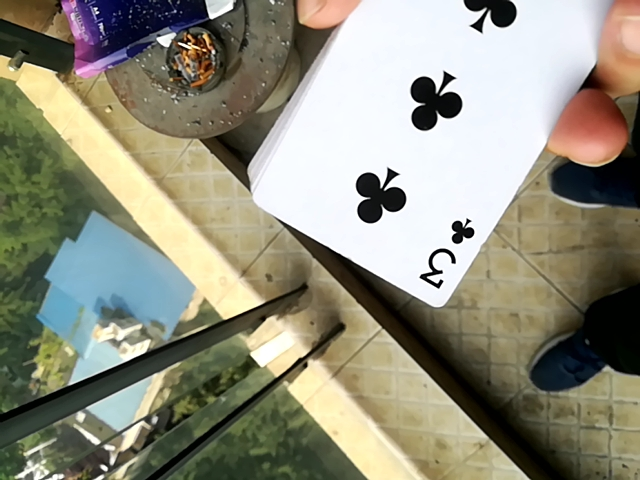mh 3: (249, 0, 629, 308)
